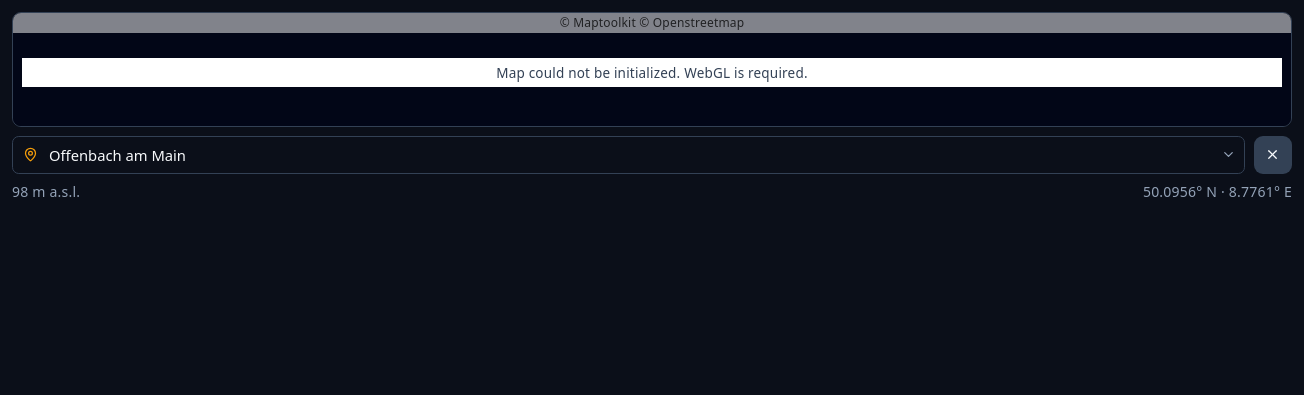
LocationSelector Component › Location History and Suggestions › drop-down arrow (spec §16.5, #166) › opens the most-used locations in count order although the field holds text
Check: the field with placeholder "Search location..." is not empty, box x1=12 y1=136 x2=1245 y2=174
Click the button named "Show most-used locations" at (1228, 155), box x1=1218 y1=145 x2=1238 y2=164
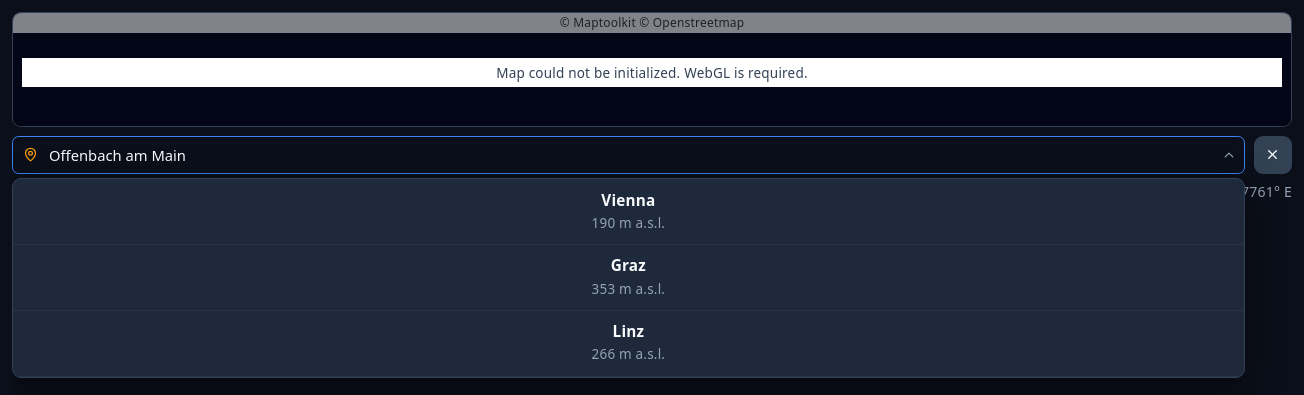
Check: the button named "Show most-used locations" is expanded, box x1=1218 y1=145 x2=1238 y2=164
// Selecting works as for search results.
Click the text "Graz" at (628, 265), box x1=611 y1=255 x2=646 y2=275
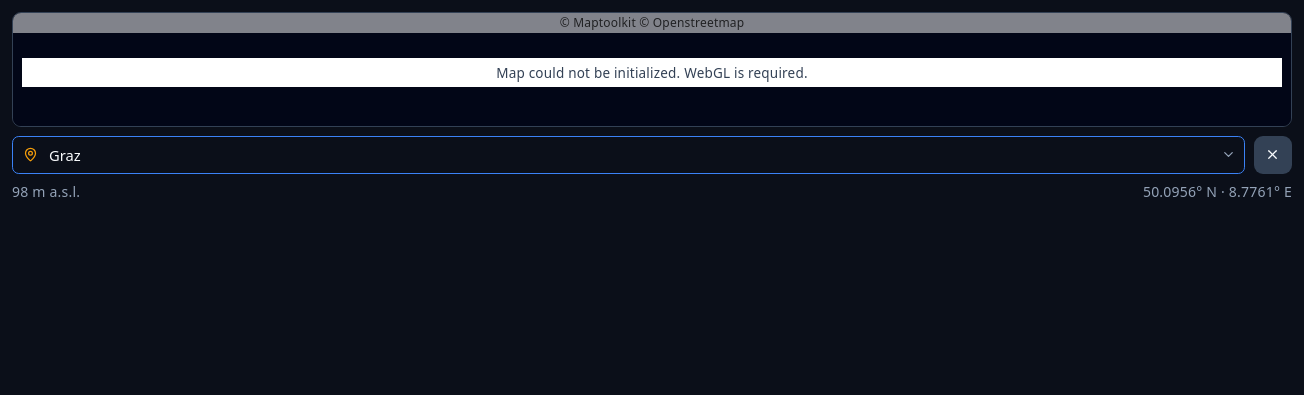
Check: the list with class "autocomplete-dropdown" is gone
